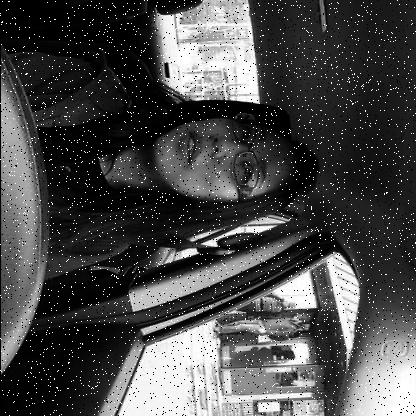seatbelt: (0, 91, 314, 264)
